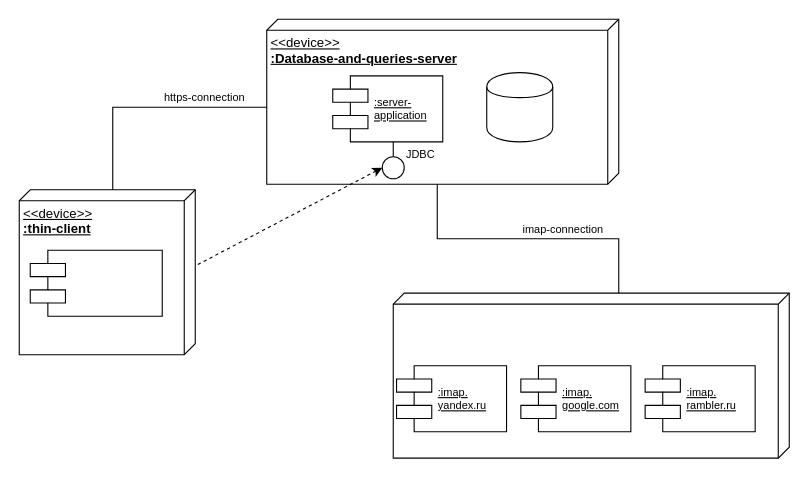
Image size: 809x477. Some labels were removed from this diagram. Each missing label, with the box of its shape:
:post-client- application: (29, 249, 162, 316)
:user-preferences-database: (486, 72, 553, 142)
<<device>> :IMAP-server: (392, 292, 789, 458)
